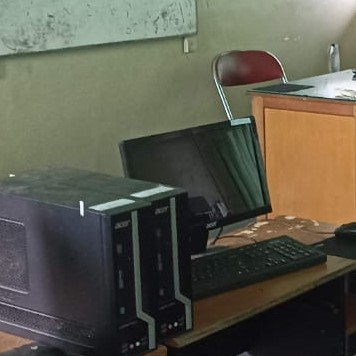monitor: (119, 115, 273, 233)
